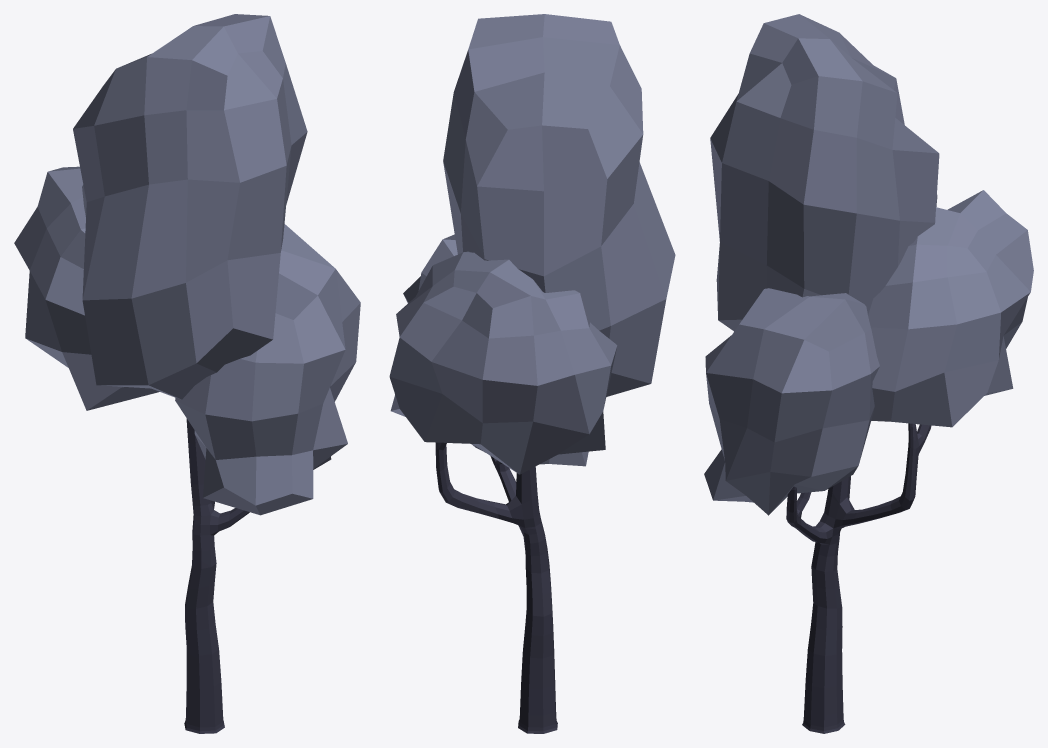
The model's file is Normal_tree_2.fbx.
3 renders of one model, left to right at view 1: azimuth 30°, elevation 25°; view 2: azimuth 150°, elevation 25°; view 3: azimuth 270°, elevation 25°, orthographic. The views are drawn at different scales.
Parts seen in each view (by area): view 1: Normal_tree__2; view 2: Normal_tree__2; view 3: Normal_tree__2.
Boxes of the visible parts, left/top/right/bottom form: Normal_tree__2: left=14, top=14, right=360, bottom=733; Normal_tree__2: left=389, top=14, right=675, bottom=733; Normal_tree__2: left=704, top=14, right=1033, bottom=733.
Bounding box in the file's own units: 11.83 × 30.75 × 13.3.
